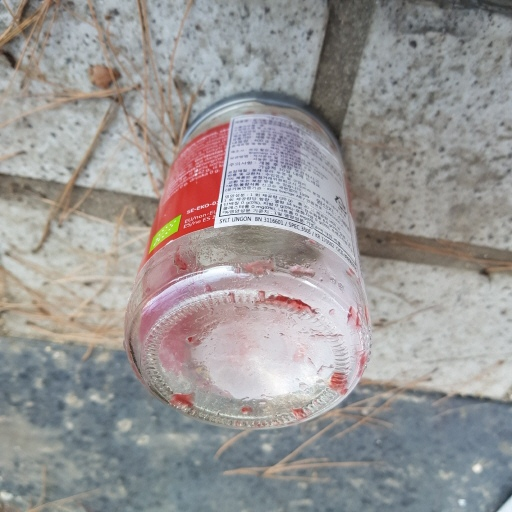Glass_5: (120, 92, 373, 432)
